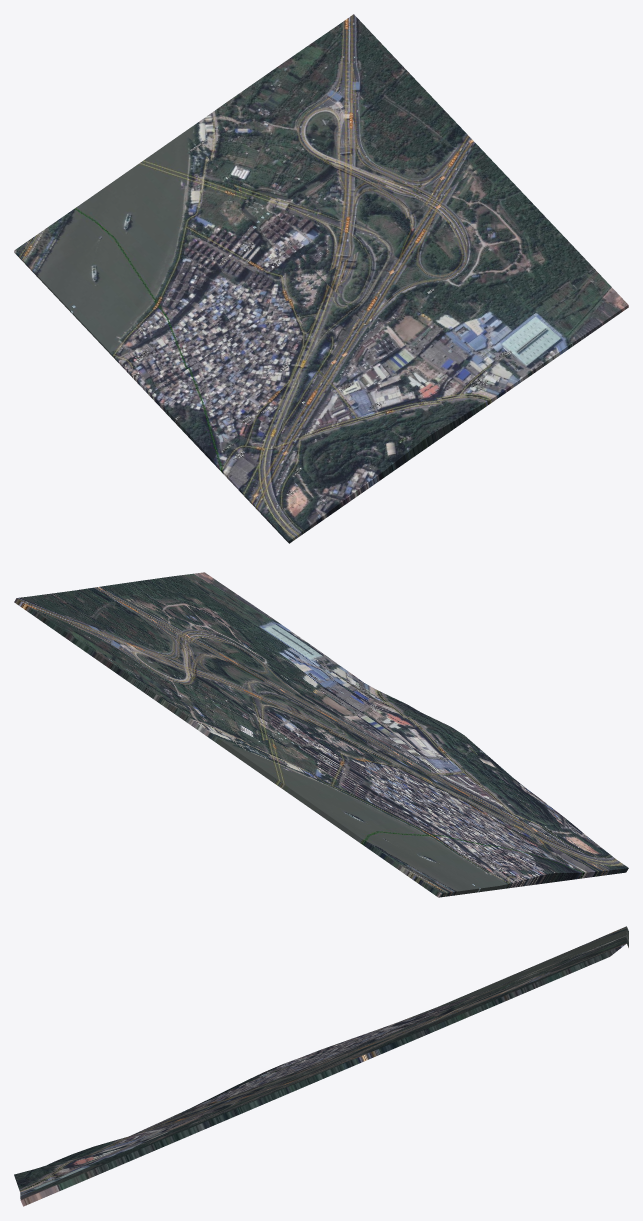
3 renders of one model, top to bottom at view 1: azimuth 30°, elevation 25°; view 2: azimuth 150°, elevation 25°; view 3: azimuth 270°, elevation 25°, orthographic. The views are drawn at different scales.
Parts seen in each view (by area): view 1: 1_9_15; view 2: 1_9_15; view 3: 1_9_15.
Boxes of the visible parts, x1,y1,x2,y2 form: 1_9_15: [14, 14, 628, 543]; 1_9_15: [14, 572, 628, 897]; 1_9_15: [14, 926, 628, 1206].
Bounding box in the file's own units: 1226 × 893 × 1136.
Materials: 1 (1 with a texture image).
